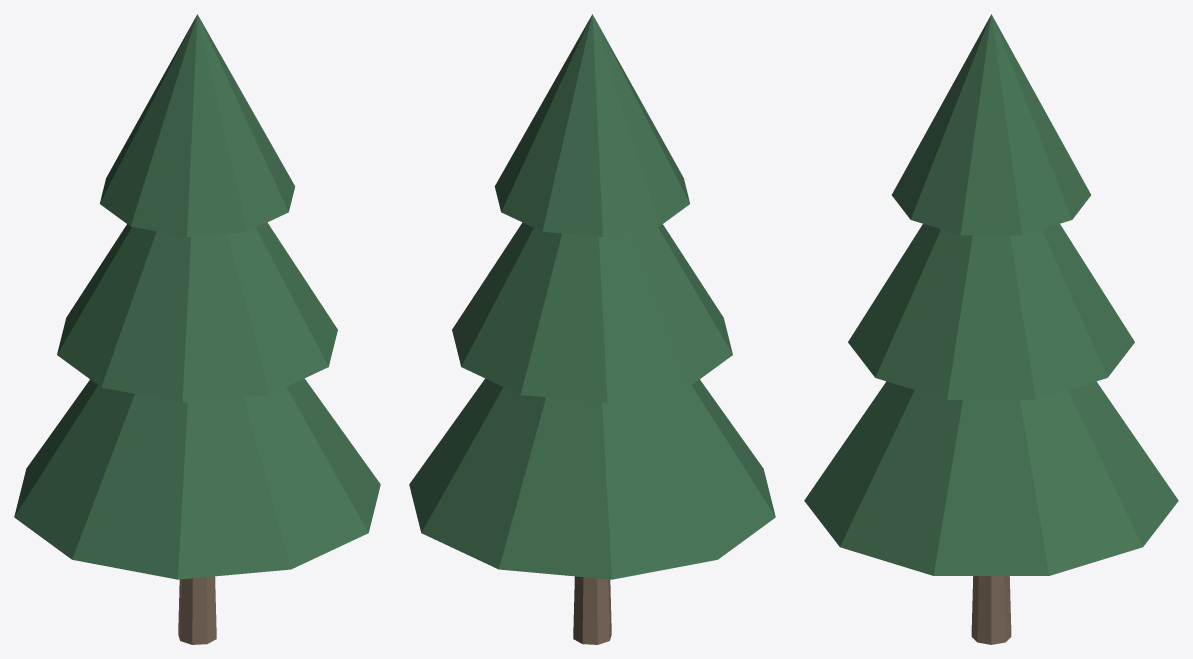
Rendered from Tree_02.fbx.
3 renders of one model, left to right at view 1: azimuth 30°, elevation 25°; view 2: azimuth 150°, elevation 25°; view 3: azimuth 270°, elevation 25°, orthographic.
Parts seen in each view (by area): view 1: Tree_02_Foliage, Tree_02_Bark; view 2: Tree_02_Foliage, Tree_02_Bark; view 3: Tree_02_Foliage, Tree_02_Bark.
Part boxes in pixels (x1,y1,x2,y2): Tree_02_Foliage: (14, 14, 380, 579); Tree_02_Bark: (178, 576, 216, 644); Tree_02_Foliage: (409, 14, 775, 579); Tree_02_Bark: (573, 576, 611, 644); Tree_02_Foliage: (804, 14, 1178, 575); Tree_02_Bark: (971, 576, 1011, 644).
Size of the model in its own units: 2.85 by 5.5 by 3.
